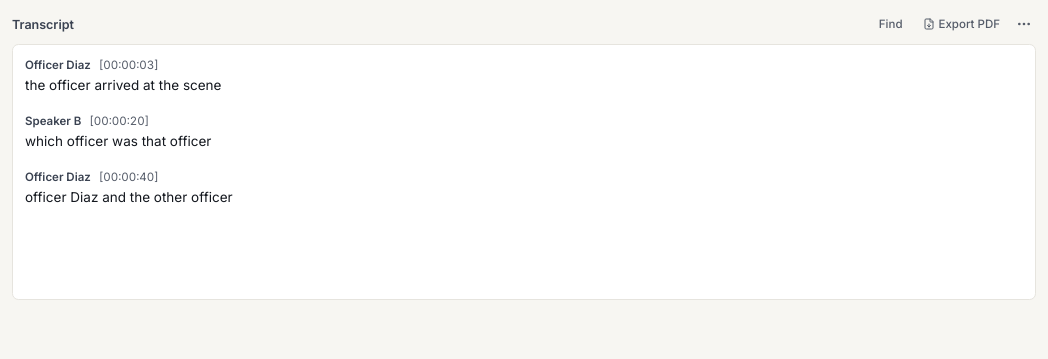
Test: TranscriptPane › find counts matches, cycles with Enter and seeks to each
The image size is (1048, 359).
Press f in the element named "Transcript of"
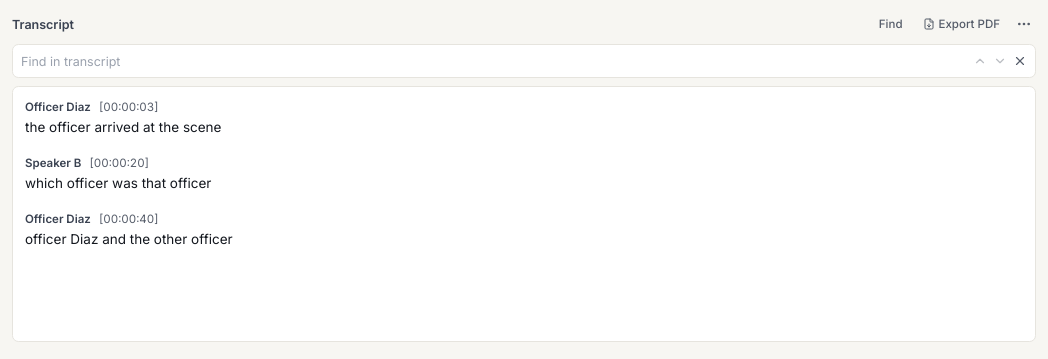
Type "officer" into the field labelled "Find in transcript". click: [491, 61]
box: [21,49,961,73]
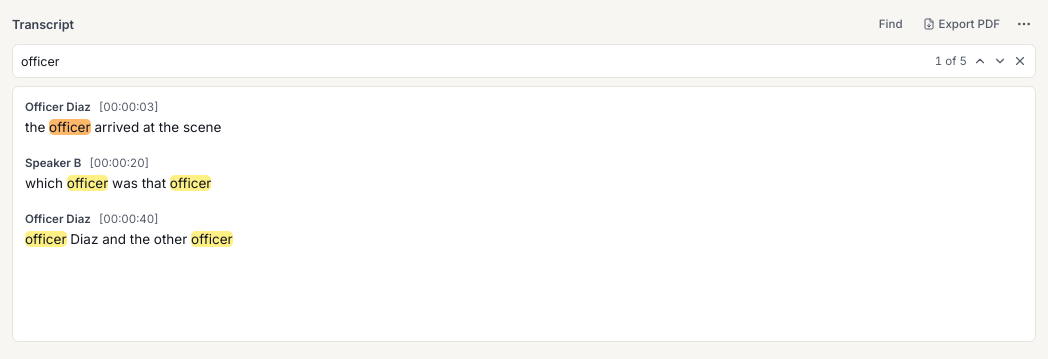
Result: the text "1 of 5" is shown at [935,53,967,69]
Press Enter in the field named "Find in transcript", box [21,49,929,73]
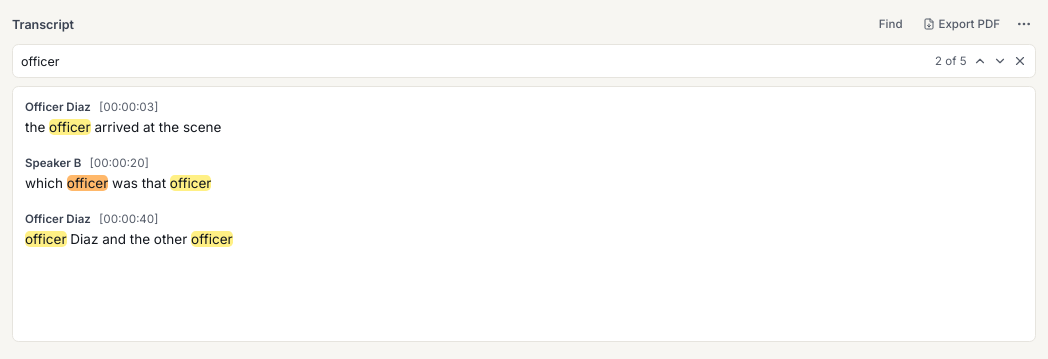
Result: the text "2 of 5" is shown at [935,53,967,69]
Press Enter in the field named "Find in transcript", box [21,49,929,73]
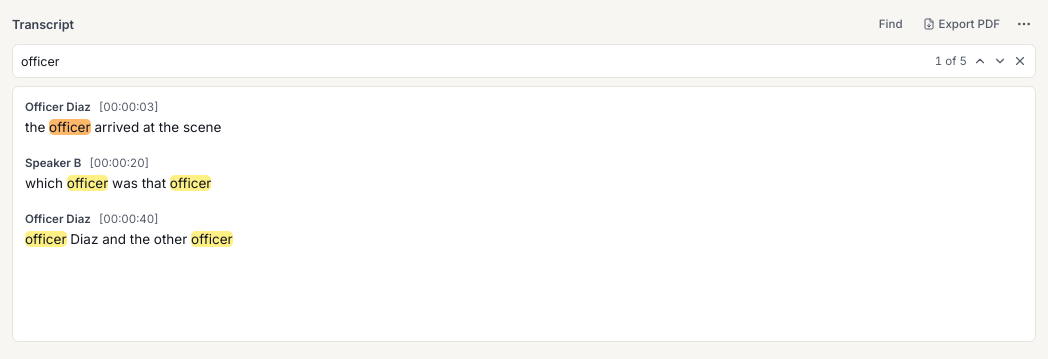
Result: the text "1 of 5" is shown at [935,53,967,69]
